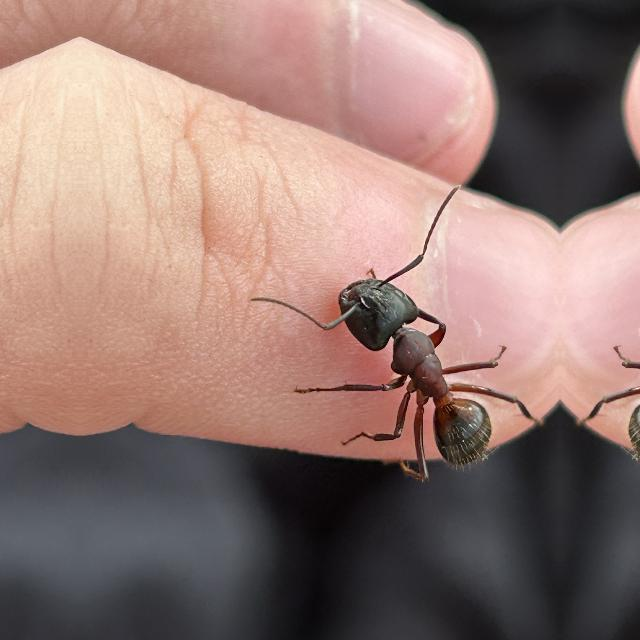Camponotus: (310, 236, 520, 492)
